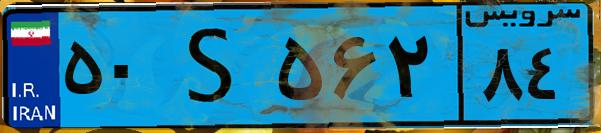0: (110, 28, 158, 98)
2: (385, 28, 445, 110)
4: (525, 38, 570, 115)
5: (270, 28, 330, 110), (57, 26, 110, 100)
6: (330, 28, 385, 110)
8: (475, 38, 525, 113)
S: (158, 12, 270, 120)
